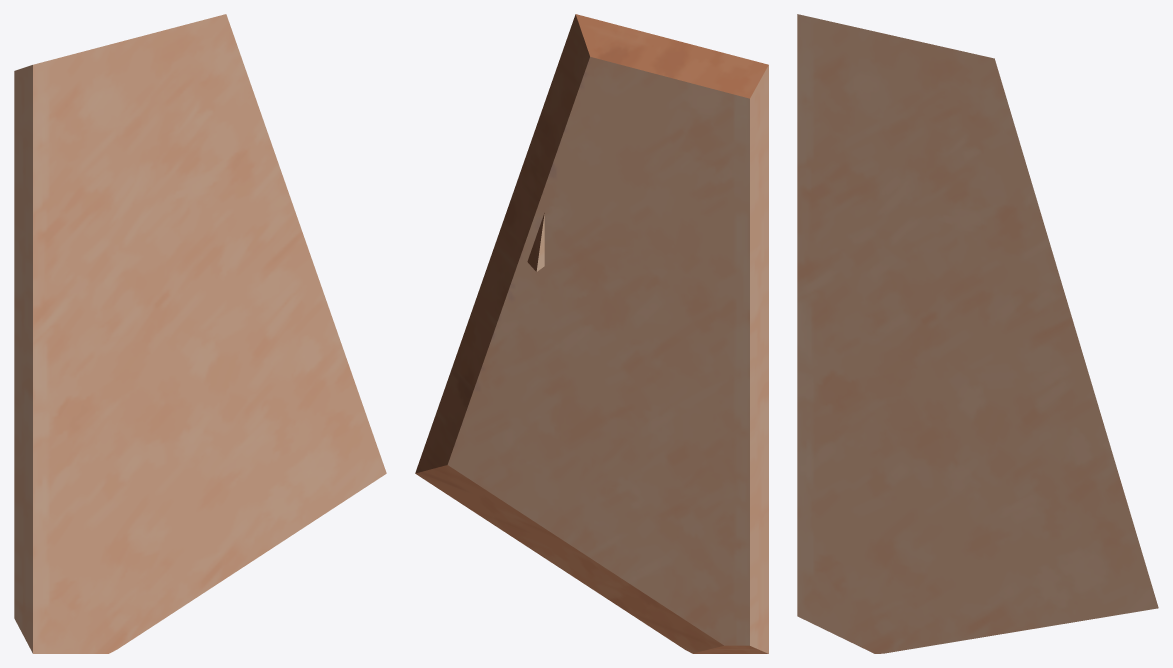
Rendered from spout_s00.fbx.
3 views of the same model, side by side, from view 1: azimuth 30°, elevation 25°; view 2: azimuth 150°, elevation 25°; view 3: azimuth 330°, elevation 25° (orthographic). The views are drawn at different scales.
Visible parts, largest first — view 1: spout_s00; view 2: spout_s00; view 3: spout_s00.
Part boxes in pixels (x1,y1,x2,y2): spout_s00: [14, 14, 386, 653]; spout_s00: [415, 14, 768, 653]; spout_s00: [797, 14, 1158, 653].
Bounding box in the file's own units: 2.16 × 3.57 × 0.3469.
